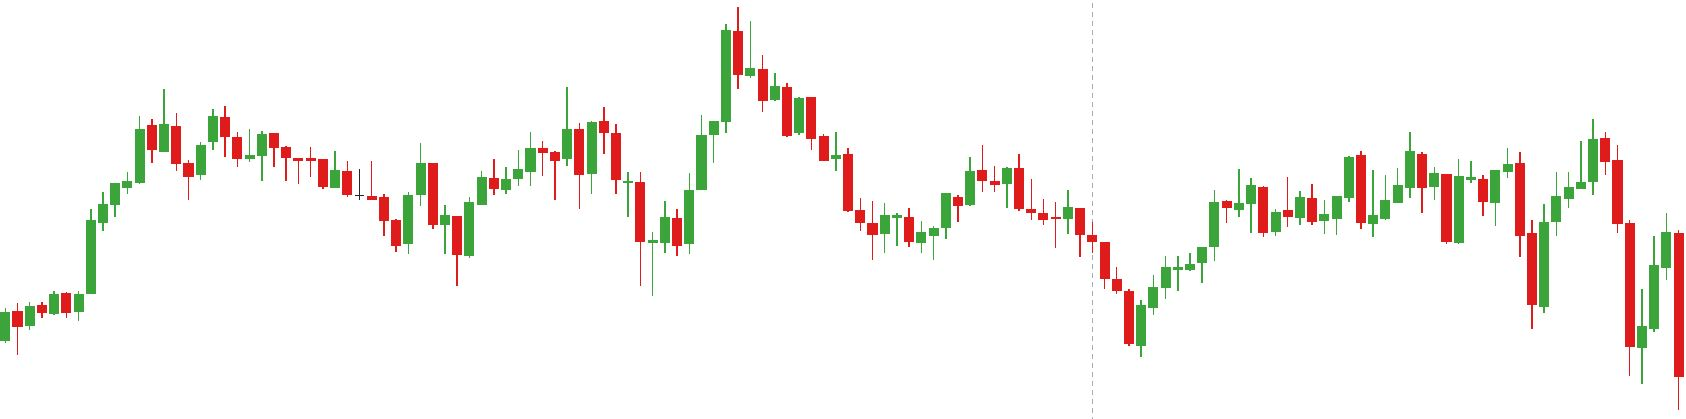buy: (389, 182, 478, 295)
sell: (559, 3, 771, 165), (1503, 112, 1612, 231), (1342, 128, 1429, 212)
